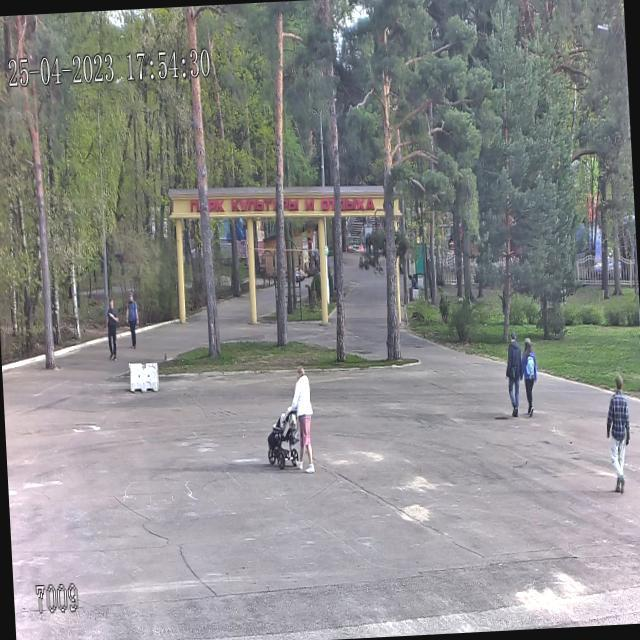person: (604, 375, 634, 492), (288, 365, 316, 475), (504, 332, 524, 418), (520, 339, 540, 416)
